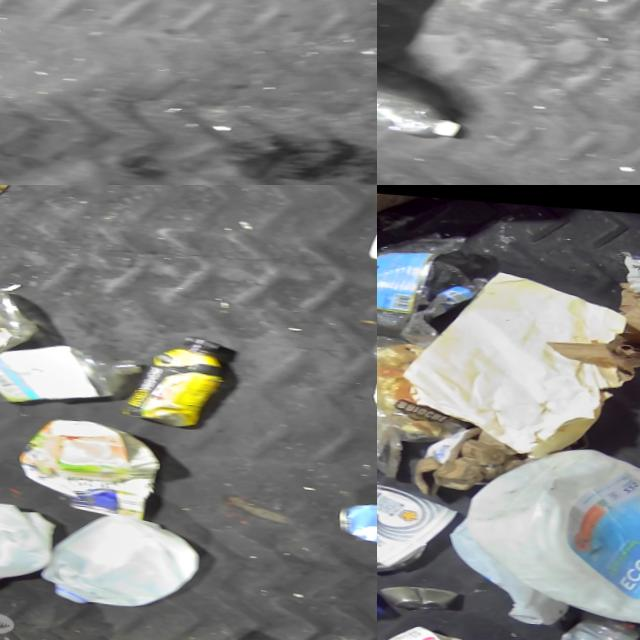can: (324, 489, 377, 542), (377, 513, 422, 572), (377, 579, 452, 608)
milk_jug: (452, 432, 640, 621), (28, 507, 196, 611), (440, 512, 566, 622), (0, 498, 54, 591)
non_white_jug: (9, 413, 158, 517), (377, 617, 589, 640)
plastic_bottle: (392, 265, 492, 347), (377, 75, 461, 137), (537, 609, 634, 640)
